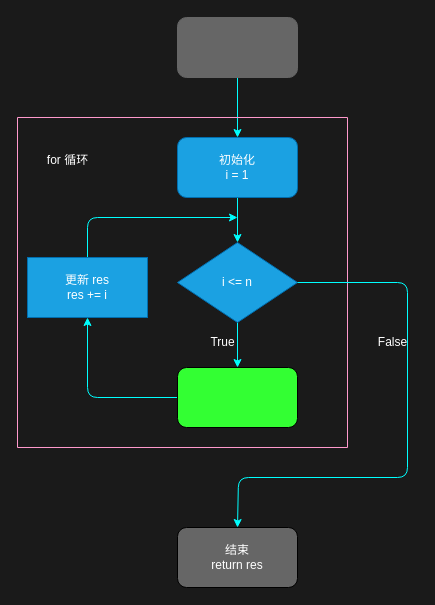
This 435x605 diagram has some shape labels left out. Here are the shapes that lost their labels. From the top down, the centre of each, then its label:
point (237, 47): 开始 res = 0
point (237, 397): 循环任务
